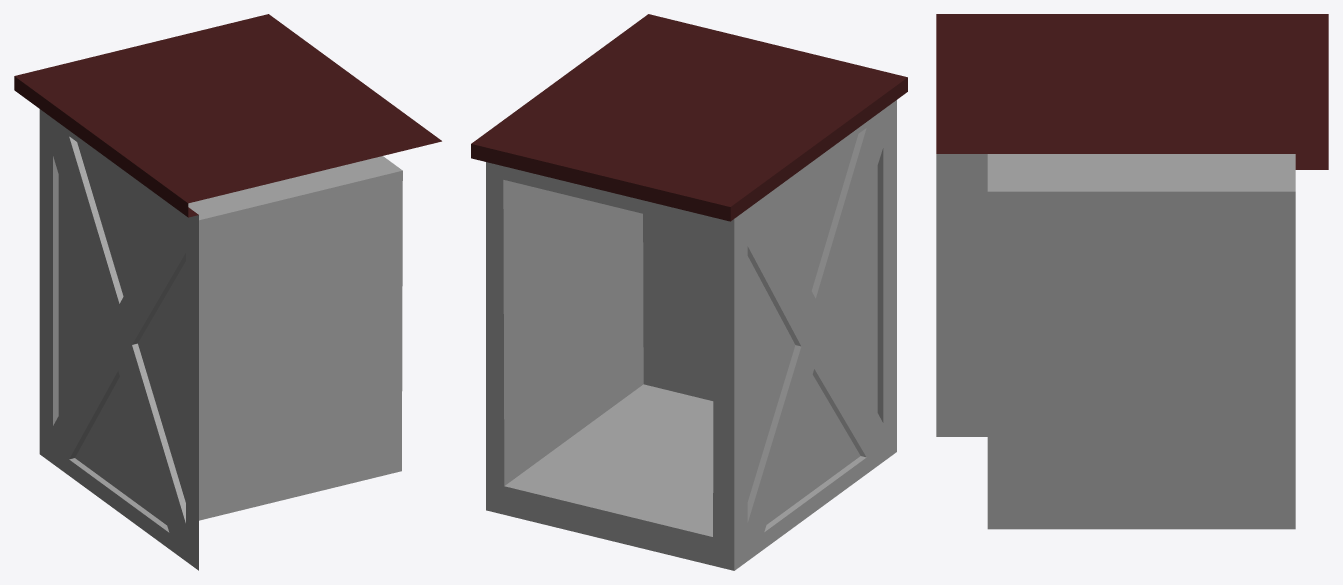
File: RightCabinet.fbx
3 renders of one model, left to right at view 1: azimuth 30°, elevation 25°; view 2: azimuth 150°, elevation 25°; view 3: azimuth 270°, elevation 25°, orthographic. The views are drawn at different scales.
Parts seen in each view (by area): view 1: polySurface102; view 2: polySurface102; view 3: polySurface102.
Part boxes in pixels (box(x1,y1,x2,y2)): polySurface102: box(14, 14, 441, 570); polySurface102: box(471, 14, 907, 570); polySurface102: box(936, 14, 1328, 529).
Size of the model in its own units: 1.57 by 2.18 by 1.86.
